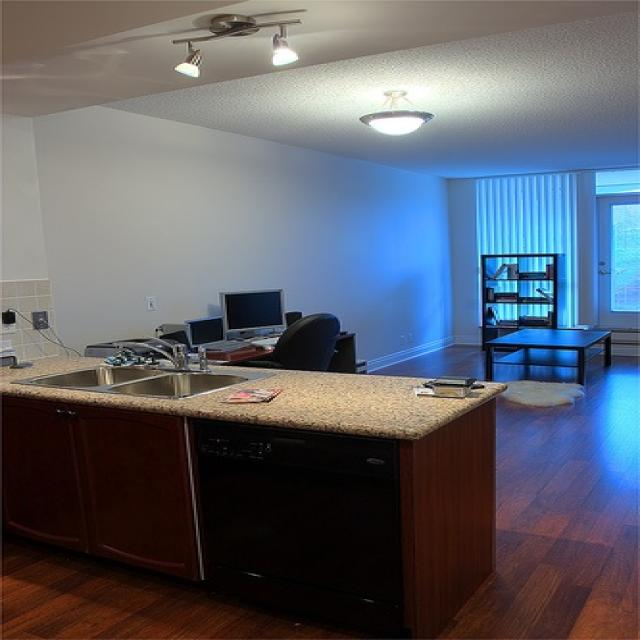chair: (242, 312, 338, 374)
tvmonitor: (219, 288, 288, 339)
